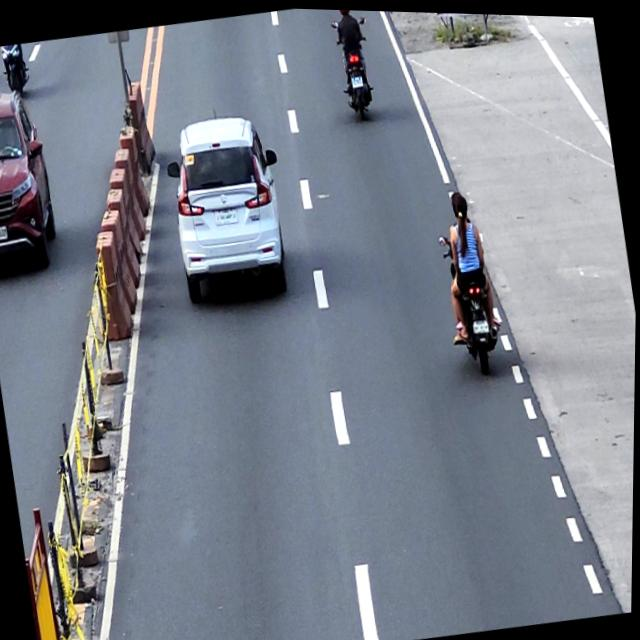Car: (158, 103, 299, 306), (0, 81, 64, 276)
License-Plate: (212, 203, 241, 226), (473, 314, 492, 334), (350, 74, 364, 88), (0, 224, 10, 242)
Motorcycle: (437, 225, 509, 377), (329, 13, 381, 121), (0, 44, 33, 98)
